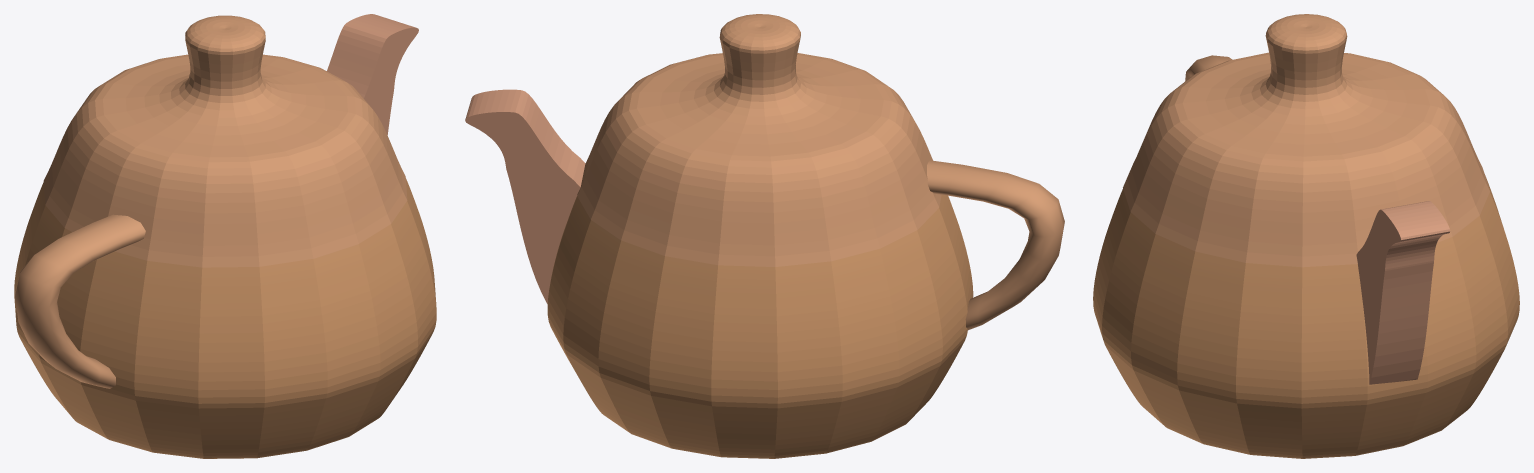
The model's file is tea.glb.
The picture shows the model from 3 angles, left to right: view 1: azimuth 30°, elevation 25°; view 2: azimuth 150°, elevation 25°; view 3: azimuth 270°, elevation 25°; orthographic projection.
Visible parts, largest first — view 1: BezierCurve, Teapot.001, BezierCurve.002; view 2: BezierCurve, BezierCurve.002, Teapot.001; view 3: BezierCurve, BezierCurve.002, Teapot.001.
Part boxes in pixels (x1,y1,x2,y2): BezierCurve: (14, 15, 436, 458); Teapot.001: (15, 214, 145, 388); BezierCurve.002: (327, 14, 418, 134); BezierCurve: (547, 14, 973, 458); BezierCurve.002: (465, 89, 585, 303); Teapot.001: (927, 160, 1064, 330); BezierCurve: (1093, 14, 1519, 458); BezierCurve.002: (1356, 201, 1450, 384); Teapot.001: (1185, 55, 1232, 81).
Size of what is drawn, in the model's own units: 5.01 by 3.54 by 3.75.
